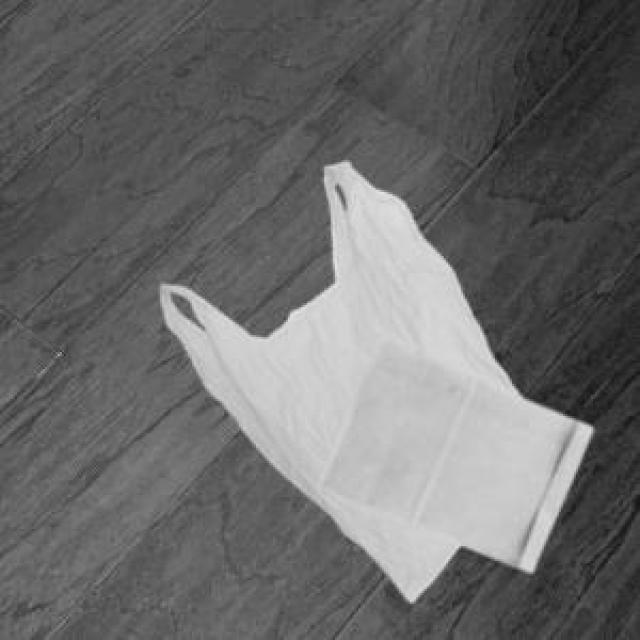paper: (316, 335, 589, 568)
